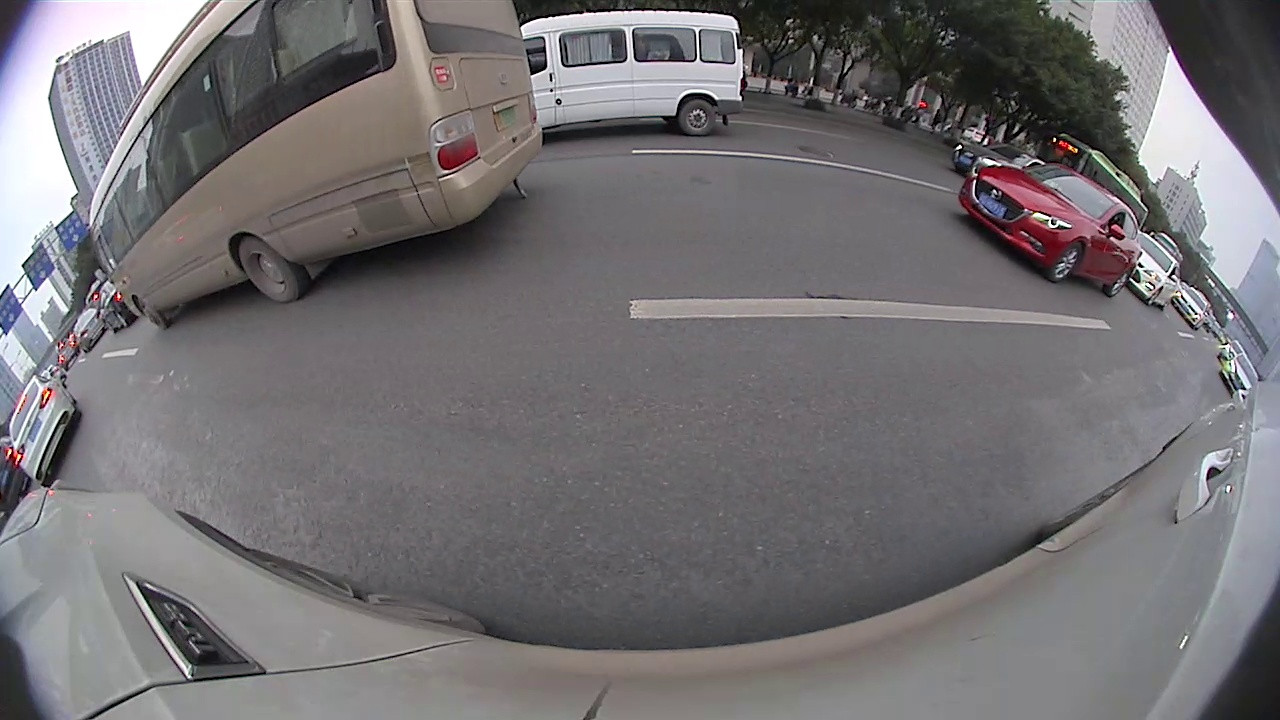bus: (90, 1, 539, 332), (1048, 136, 1147, 239)
car: (521, 12, 742, 134), (960, 166, 1137, 296), (9, 375, 84, 485), (1125, 232, 1180, 309), (951, 145, 1047, 180), (1177, 287, 1205, 328)
front: (1053, 244, 1086, 281), (133, 298, 166, 327)
rear: (236, 238, 306, 300), (678, 102, 715, 133), (1107, 268, 1131, 295)
